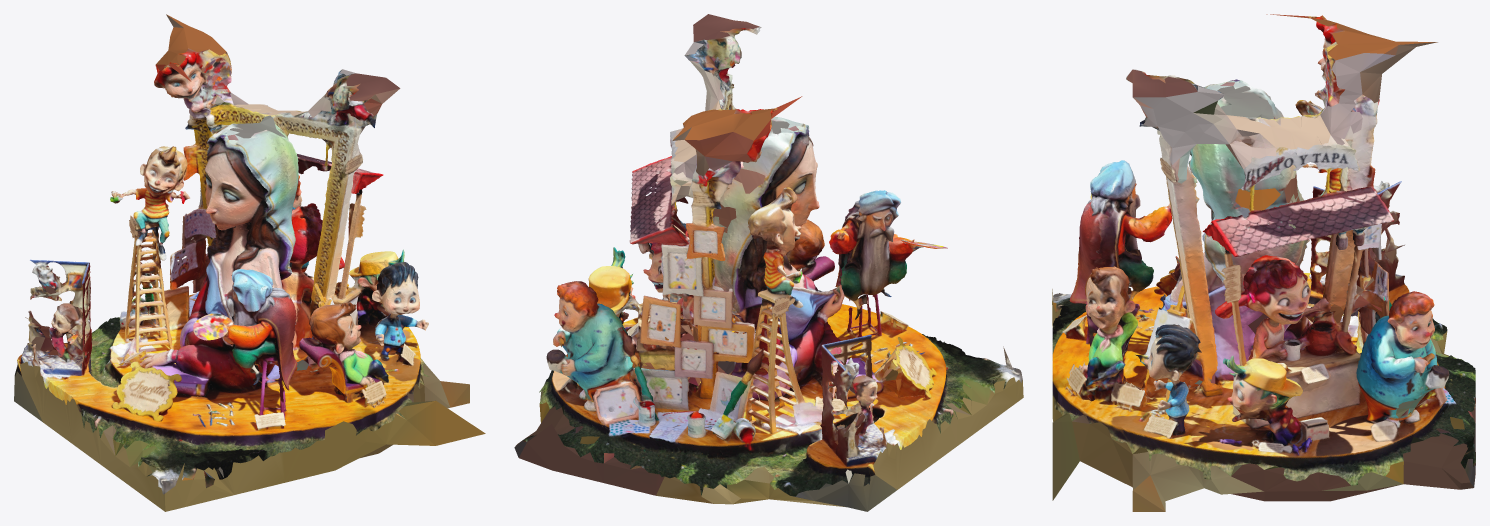
Rendered from falla_infantil_segrelles_2024_-_test_small_ULTRA_50.glb.
3 views of the same model, side by side, from view 1: azimuth 30°, elevation 25°; view 2: azimuth 150°, elevation 25°; view 3: azimuth 270°, elevation 25° (orthographic). The views are drawn at different scales.
Bounding box in the file's own units: 2.94 × 2.74 × 2.79.
Materials: 1 (1 with a texture image).
